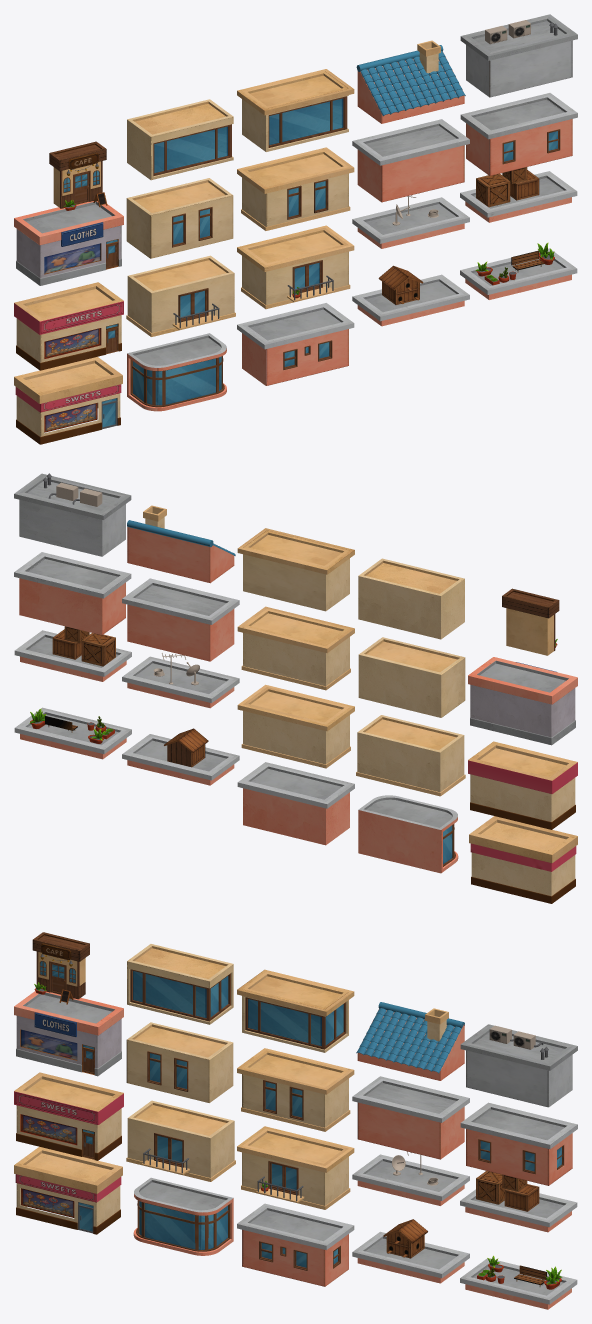
File: city_game_ready_free.glb
The picture shows the model from 3 angles, top to bottom: view 1: azimuth 30°, elevation 25°; view 2: azimuth 150°, elevation 25°; view 3: azimuth 330°, elevation 25°; orthographic projection.
Parts seen in each view (by area): view 1: Building.001, Building.013, Building.002, Cube.002_Plate, Cube.002_Plate.001, Cube.002_Plate.006, Cube.002_Plate.005, Cube.002_Plate.007, Cube.002_Plate.004, Cube.002_Plate.002, Cube, Cube.002_Plate.003 (+11 smaller); view 2: Building.001, Building.002, Building.013, Cube.002_Plate, Cube.002_Plate.001, Cube.002_Plate.006, Cube.002_Plate.004, Cube.002_Plate.005, Cube.002_Plate.007, Cube.002_Plate.002, Cube, Cube.002_Plate.003 (+11 smaller); view 3: Building.001, Building.013, Building.002, Cube.002_Plate, Cube.002_Plate.001, Cube.002_Plate.006, Cube.002_Plate.004, Cube.002_Plate.005, Cube.002_Plate.007, Cube.002_Plate.002, Cube, Cube.002_Plate.003 (+11 smaller).
Part boxes in pixels (left/top/right/bottom): Building.001: left=14, top=282, right=123, bottom=370; Building.013: left=14, top=357, right=122, bottom=444; Building.002: left=14, top=201, right=123, bottom=285; Cube.002_Plate: left=237, top=147, right=354, bottom=230; Cube.002_Plate.001: left=237, top=225, right=354, bottom=309; Cube.002_Plate.006: left=352, top=119, right=469, bottom=202; Cube.002_Plate.005: left=237, top=303, right=354, bottom=385; Cube.002_Plate.007: left=460, top=93, right=577, bottom=175; Cube.002_Plate.004: left=237, top=69, right=354, bottom=151; Cube.002_Plate.002: left=126, top=255, right=235, bottom=336; Cube: left=126, top=178, right=233, bottom=258; Cube.002_Plate.003: left=127, top=99, right=233, bottom=180; Building.001: left=468, top=741, right=577, bottom=829; Building.002: left=468, top=657, right=577, bottom=745; Building.013: left=469, top=816, right=577, bottom=903; Cube.002_Plate: left=237, top=606, right=354, bottom=690; Cube.002_Plate.001: left=237, top=684, right=354, bottom=768; Cube.002_Plate.006: left=122, top=578, right=239, bottom=661; Cube.002_Plate.004: left=237, top=528, right=354, bottom=611; Cube.002_Plate.005: left=237, top=762, right=354, bottom=845; Cube.002_Plate.007: left=14, top=552, right=131, bottom=635; Cube.002_Plate.002: left=356, top=715, right=465, bottom=796; Cube: left=358, top=637, right=465, bottom=717; Cube.002_Plate.003: left=358, top=558, right=464, bottom=639; Building.001: left=14, top=1072, right=123, bottom=1160; Building.013: left=14, top=1146, right=122, bottom=1234; Building.002: left=14, top=991, right=123, bottom=1076; Cube.002_Plate: left=237, top=1048, right=354, bottom=1131; Cube.002_Plate.001: left=237, top=1126, right=354, bottom=1209; Cube.002_Plate.006: left=352, top=1076, right=469, bottom=1159; Cube.002_Plate.004: left=237, top=969, right=354, bottom=1052; Cube.002_Plate.005: left=237, top=1203, right=354, bottom=1286; Cube.002_Plate.007: left=460, top=1102, right=577, bottom=1185; Cube.002_Plate.002: left=126, top=1100, right=235, bottom=1181; Cube: left=126, top=1022, right=233, bottom=1102; Cube.002_Plate.003: left=127, top=944, right=233, bottom=1024.
Size of the model in its own units: 25.92 by 13.38 by 2.85.
Materials: 1 (1 with a texture image).
